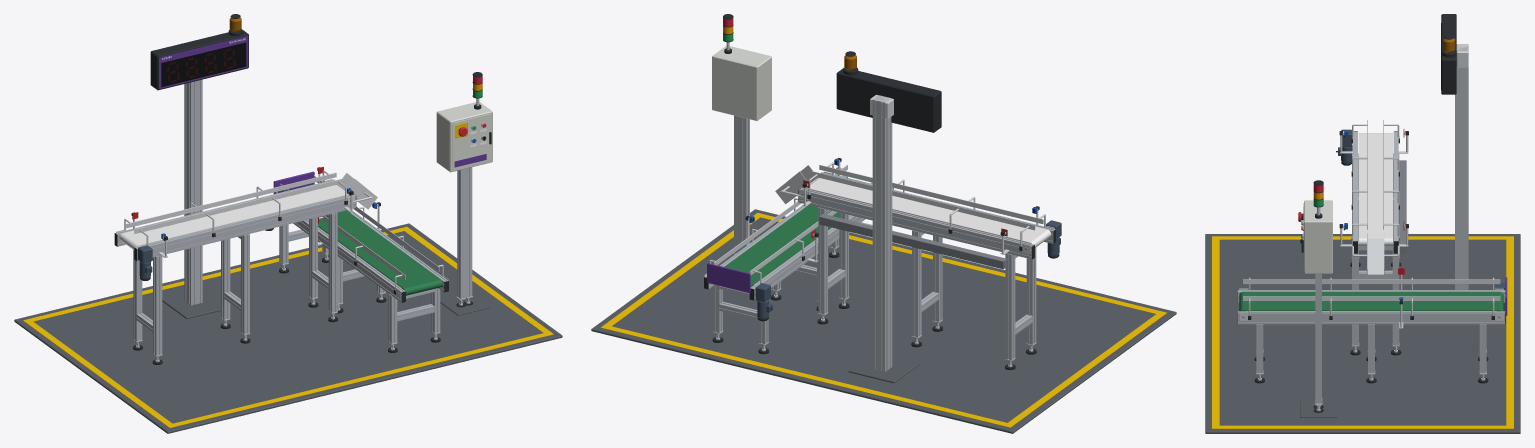
File: counter.glb
3 renders of one model, left to right at view 1: azimuth 30°, elevation 25°; view 2: azimuth 150°, elevation 25°; view 3: azimuth 270°, elevation 25°, orthographic. The views are drawn at different scales.
Parts seen in each view (by area): view 1: static_base, static_alu, static_inox, static_warn, belt_2, static_cabinet, belt_1, static_black, display, static_accent; view 2: static_base, static_alu, static_inox, static_black, static_warn, static_cabinet, belt_1, belt_2, static_duct, static_accent, static_motor; view 3: static_base, static_alu, static_inox, static_warn, belt_2, belt_1, static_black, static_cabinet, static_duct, static_motor.
Boxes of the visible parts, x1,y1,x2,y2 form: static_base: (14, 223, 562, 433); static_alu: (115, 79, 473, 356); static_inox: (116, 170, 448, 298); static_warn: (23, 122, 553, 427); belt_2: (318, 210, 442, 295); static_cabinet: (436, 102, 492, 172); belt_1: (119, 185, 349, 249); static_black: (114, 14, 491, 364); display: (161, 42, 246, 87); static_accent: (159, 36, 486, 193); static_base: (591, 209, 1176, 433); static_alu: (704, 95, 1055, 371); static_inox: (704, 94, 1054, 296); static_black: (704, 14, 1059, 370); static_warn: (601, 212, 1166, 427); static_cabinet: (712, 45, 771, 120); belt_1: (806, 178, 1051, 247); belt_2: (724, 177, 869, 287); static_duct: (819, 214, 1007, 269); static_accent: (707, 263, 750, 292); static_motor: (755, 220, 1061, 318); static_base: (1205, 234, 1520, 433); static_alu: (1237, 45, 1505, 405); static_inox: (1239, 44, 1503, 328); static_warn: (1212, 207, 1513, 428); belt_2: (1239, 291, 1503, 311); belt_1: (1358, 133, 1392, 245); static_black: (1237, 14, 1505, 412); static_cabinet: (1303, 200, 1332, 273); static_duct: (1399, 160, 1406, 254); static_motor: (1338, 129, 1505, 311).
Size of the model in its own units: 2.75 by 1.9 by 1.85.
